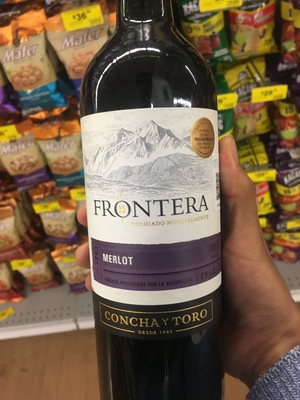frontera merlot: (74, 6, 239, 398)
